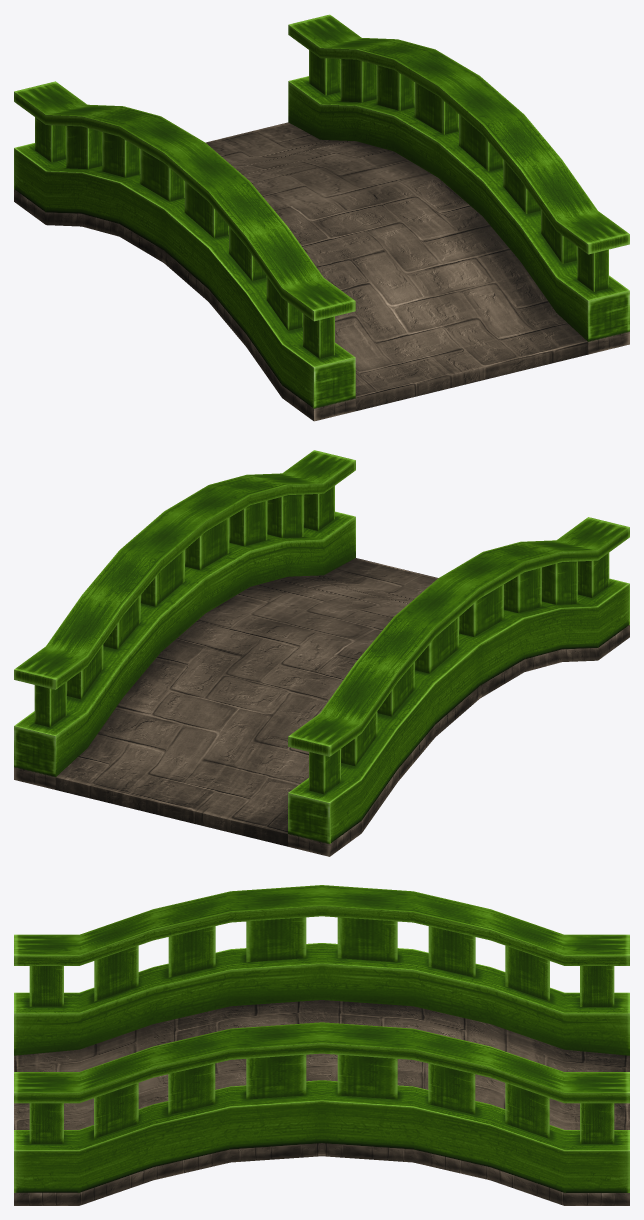
File: stylish_bridge.glb
3 views of the same model, one above another, from view 1: azimuth 30°, elevation 25°; view 2: azimuth 150°, elevation 25°; view 3: azimuth 270°, elevation 25° (orthographic). The views are drawn at different scales.
Parts seen in each view (by area): view 1: Structures.001; view 2: Structures.001; view 3: Structures.001.
Boxes of the visible parts, x1,y1,x2,y2 form: Structures.001: [14, 14, 629, 421]; Structures.001: [14, 450, 629, 856]; Structures.001: [14, 885, 629, 1205].
Bounding box in the file's own units: 10.68 × 5.12 × 17.57.
1 material, 1 textured.
